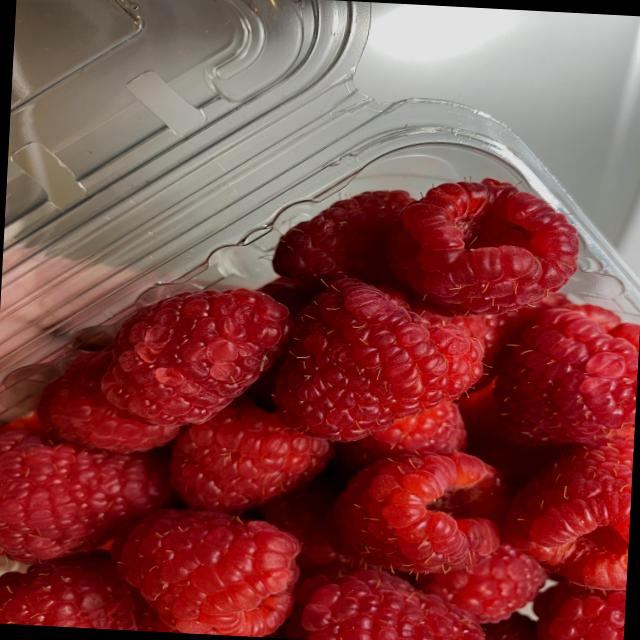raspberries: (0, 174, 639, 640)
